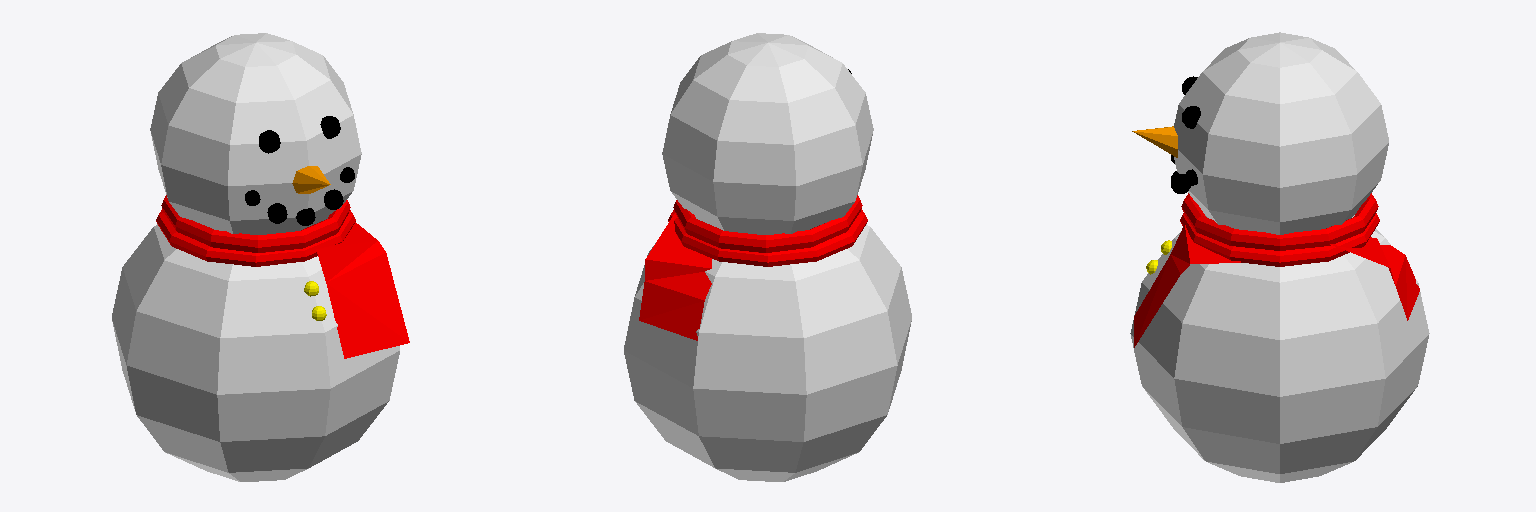
Rendered from snow.obj.
3 views of the same model, side by side, from view 1: azimuth 30°, elevation 25°; view 2: azimuth 150°, elevation 25°; view 3: azimuth 270°, elevation 25° (orthographic).
Parts seen in each view (by area): view 1: default; view 2: default; view 3: default.
Part boxes in pixels (bbox=[...]): default: bbox=[112, 33, 409, 481]; default: bbox=[624, 33, 911, 481]; default: bbox=[1130, 32, 1429, 482].
Bounding box in the file's own units: 1.23 × 1.94 × 1.23.